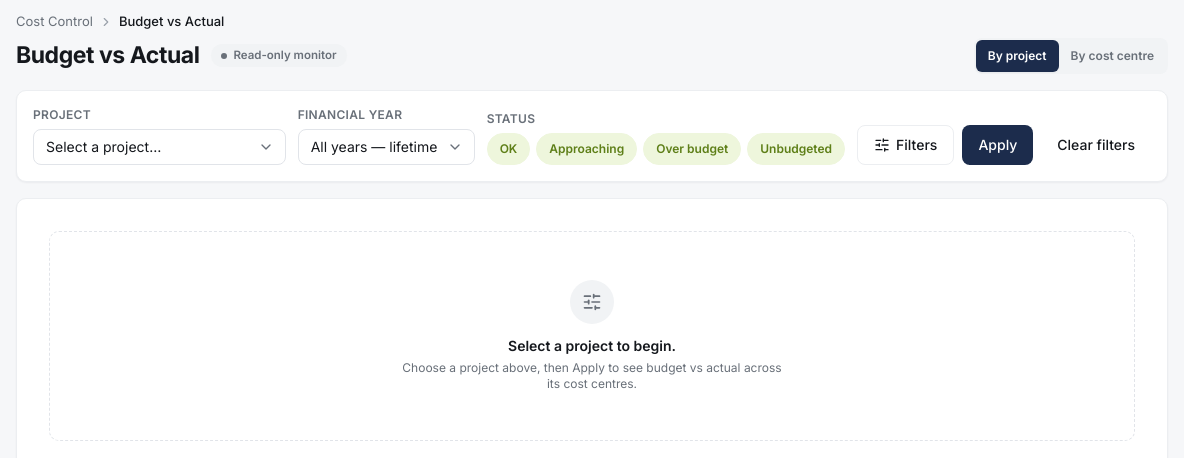
Scenario: BudgetVsActualScreen — amounts + status (FR-CC-006/007/011/012/015) › gives the utilisation bar an exact-percentage aria-label
Select "BR-04 — Bridge-04 — Buriganga" in the dropdown with test id "bva-project" at (159, 146), box [33,128,286,164]
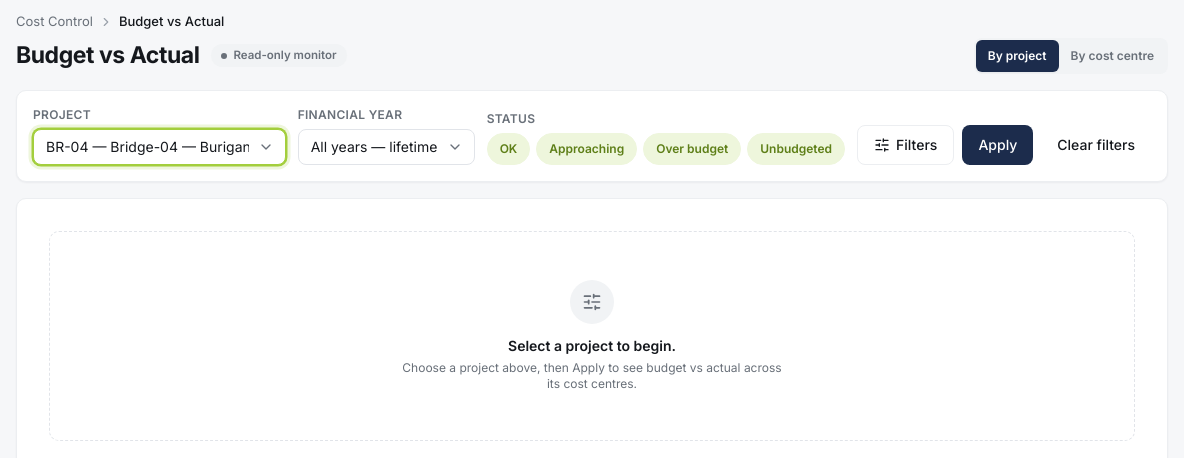
Click the button with test id "bva-apply" at (998, 144), box [962,124,1033,164]
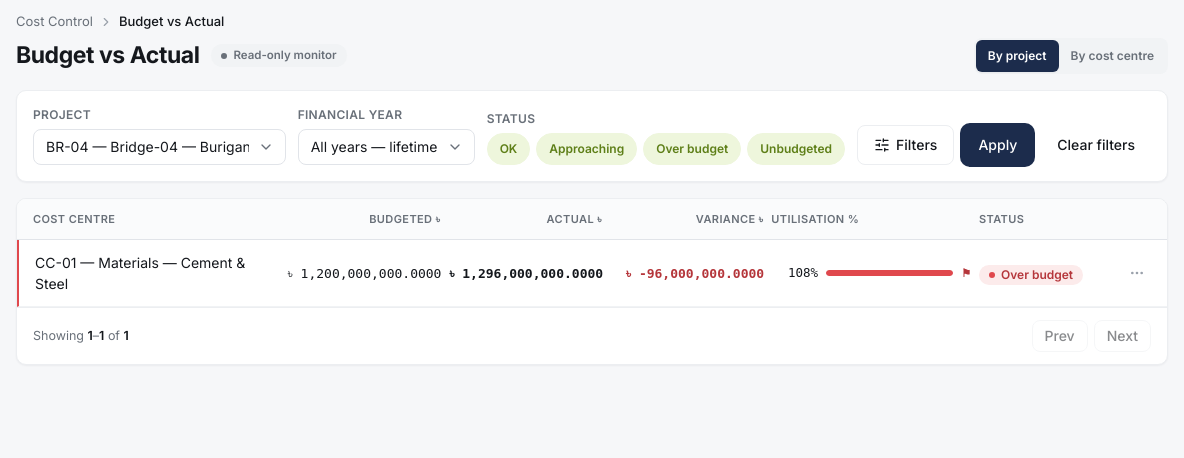
expect the element with test id "bva-table" is shown: met, box [17,198,1167,307]
expect the element named "108% of budget used" is shown: met, box [772,264,971,282]
